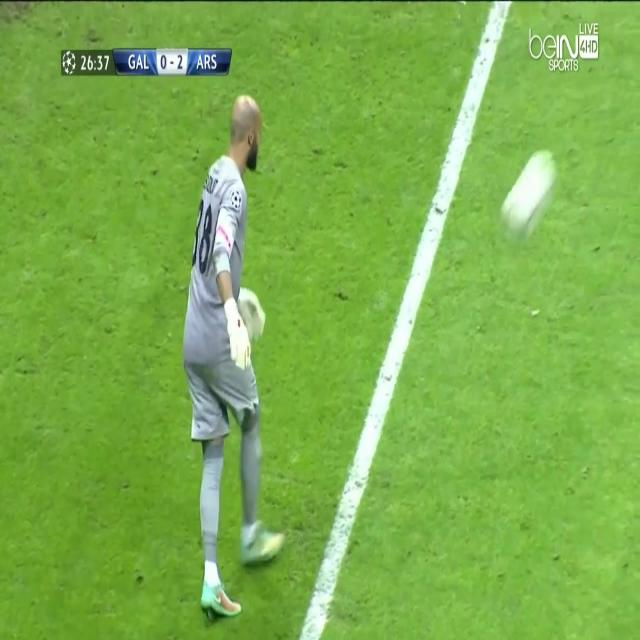Ball: (498, 142, 556, 247)
Goalkeeper: (180, 79, 286, 622)
